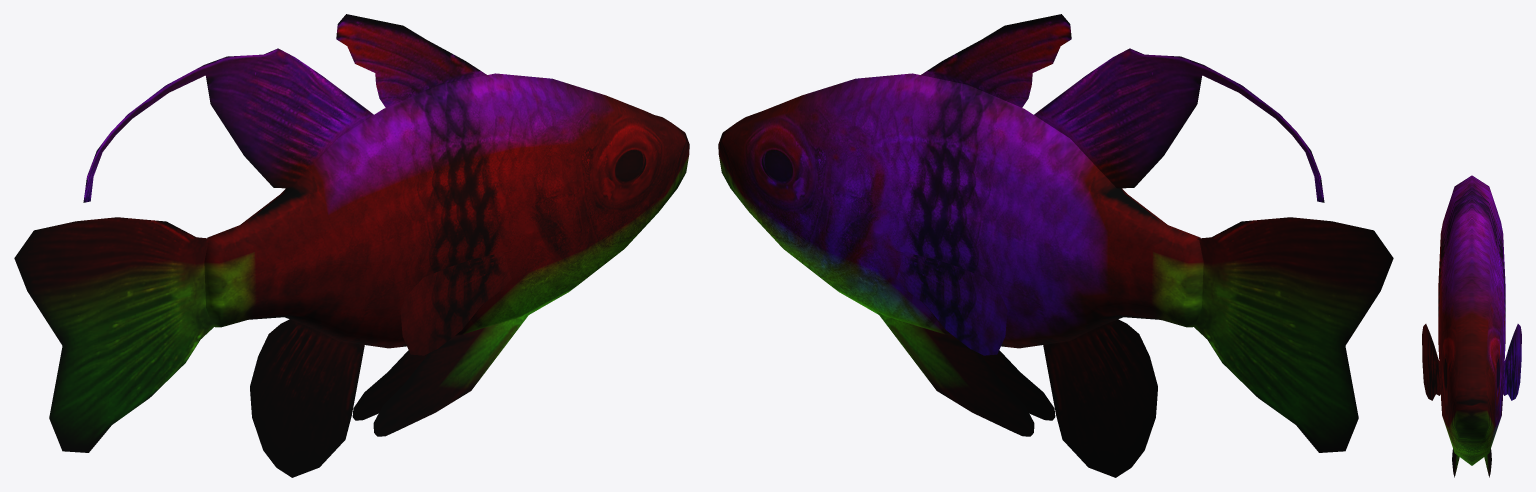
The model's file is pajama_cardinalfish.glb.
3 views of the same model, side by side, from view 1: azimuth 30°, elevation 25°; view 2: azimuth 150°, elevation 25°; view 3: azimuth 270°, elevation 25° (orthographic). The views are drawn at different scales.
Parts seen in each view (by area): view 1: PajamaCardinalfish; view 2: PajamaCardinalfish; view 3: PajamaCardinalfish.
Part boxes in pixels (x1,y1,x2,y2): PajamaCardinalfish: (14, 14, 689, 477); PajamaCardinalfish: (718, 14, 1393, 477); PajamaCardinalfish: (1422, 175, 1521, 477).
Size of the model in its own units: 1 by 0.6378 by 0.1422.
1 material, 1 textured.
